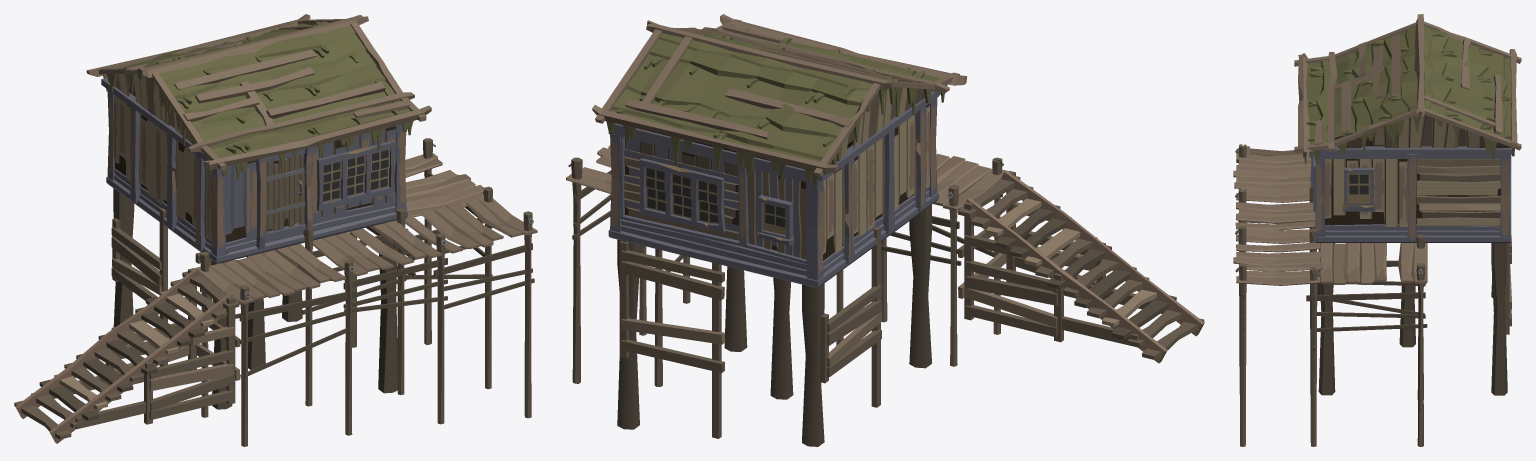
The model's file is SM_Bld_Shanty_Preset_07.glb.
3 renders of one model, left to right at view 1: azimuth 30°, elevation 25°; view 2: azimuth 150°, elevation 25°; view 3: azimuth 270°, elevation 25°, orthographic. The views are drawn at different scales.
Parts seen in each view (by area): view 1: node_id4; view 2: node_id4; view 3: node_id4.
Part boxes in pixels (box(x1,y1,x2,y2)): node_id4: box(14, 14, 537, 446); node_id4: box(566, 14, 1204, 446); node_id4: box(1233, 14, 1521, 446).
Bounding box in the file's own units: 0.512 × 0.3482 × 0.297.
Materials: 1 (1 with a texture image).
